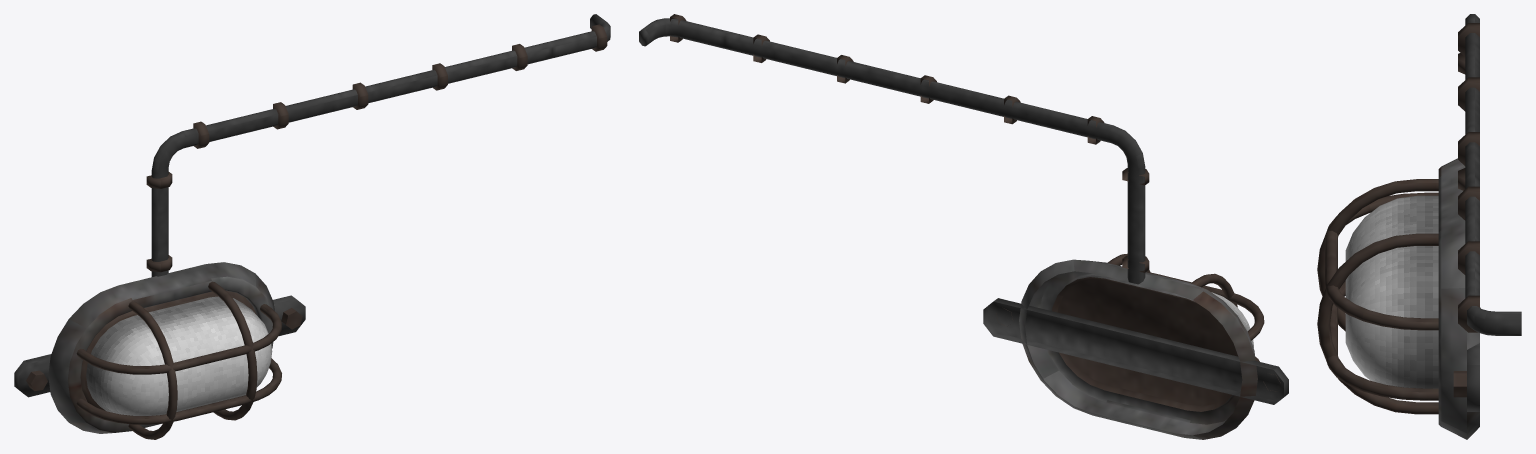
Rendered from lamp_1.fbx.
The picture shows the model from 3 angles, left to right: view 1: azimuth 30°, elevation 25°; view 2: azimuth 150°, elevation 25°; view 3: azimuth 270°, elevation 25°; orthographic projection. The views are drawn at different scales.
Parts seen in each view (by area): view 1: lamp_1; view 2: lamp_1; view 3: lamp_1.
Part boxes in pixels (left/top/right/bottom): lamp_1: left=14, top=14, right=610, bottom=439; lamp_1: left=639, top=14, right=1288, bottom=439; lamp_1: left=1317, top=14, right=1521, bottom=439.
Bounding box in the file's own units: 0.7532 × 0.1583 × 0.343.
